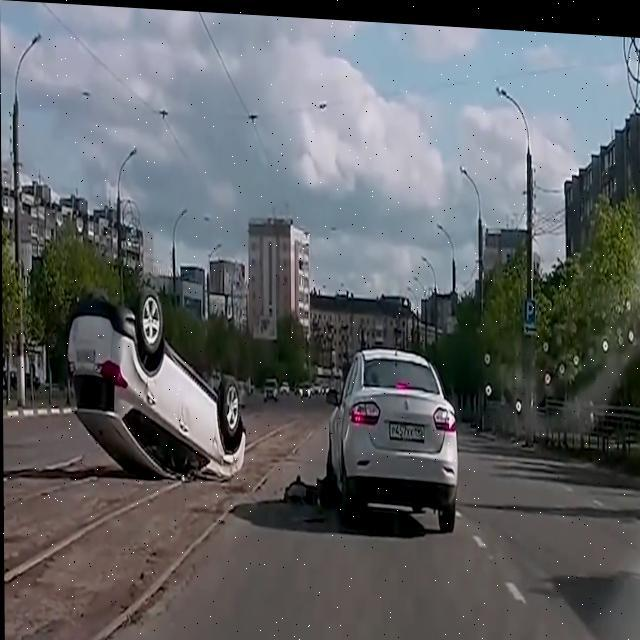normal: (305, 297, 492, 565)
single accident: (50, 255, 277, 497)
